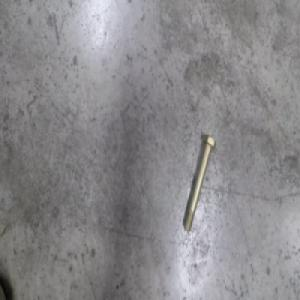Bolt: (181, 132, 216, 232)
